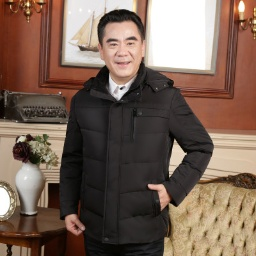face: (97, 10, 145, 77)
